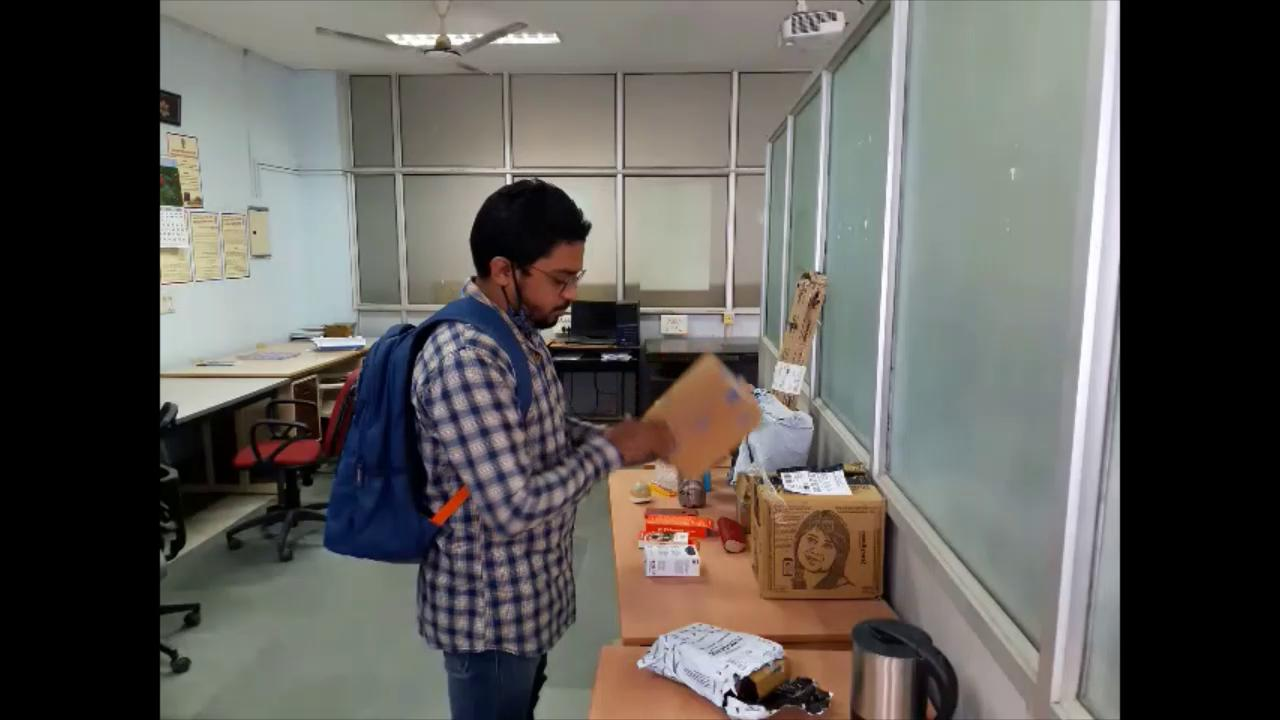Normal: (329, 173, 761, 720)
